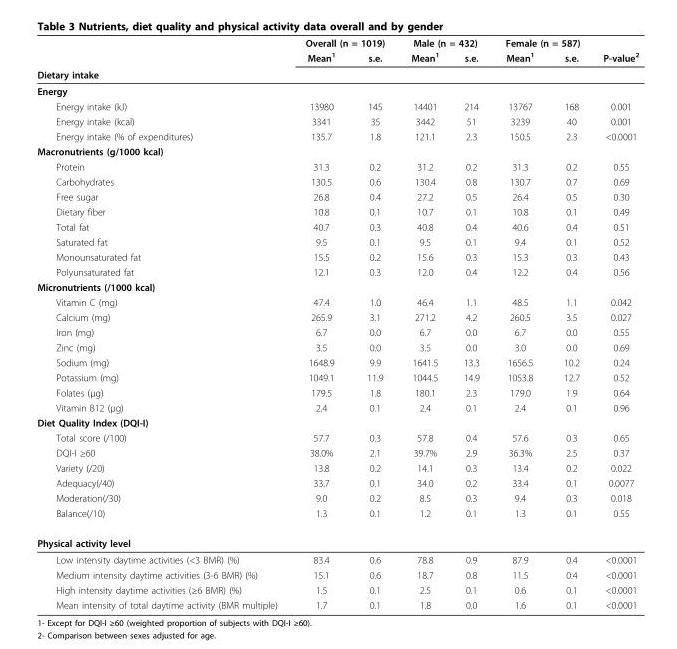table: (36, 36, 638, 610)
table column: (36, 36, 290, 610), (290, 36, 350, 610), (491, 36, 548, 610), (397, 36, 450, 610), (350, 36, 397, 610), (591, 36, 638, 610), (548, 36, 591, 610), (450, 36, 491, 610)
table column header: (36, 36, 638, 82)
table projected row header: (36, 527, 638, 551), (36, 82, 638, 98), (36, 143, 638, 158), (36, 279, 638, 294), (36, 414, 638, 429)
table row: (36, 527, 638, 551), (36, 505, 638, 527), (36, 65, 638, 82), (36, 49, 638, 65), (36, 82, 638, 98), (36, 203, 638, 219), (36, 444, 638, 460), (36, 551, 638, 567), (36, 98, 638, 113), (36, 113, 638, 128), (36, 128, 638, 143), (36, 143, 638, 158), (36, 158, 638, 173), (36, 173, 638, 188), (36, 188, 638, 203), (36, 219, 638, 234), (36, 234, 638, 249), (36, 249, 638, 264), (36, 264, 638, 279), (36, 279, 638, 294), (36, 294, 638, 309), (36, 309, 638, 324), (36, 324, 638, 339), (36, 339, 638, 354), (36, 354, 638, 369), (36, 369, 638, 384), (36, 384, 638, 399), (36, 399, 638, 414), (36, 414, 638, 429), (36, 429, 638, 444), (36, 460, 638, 475), (36, 475, 638, 490), (36, 490, 638, 505), (36, 567, 638, 582), (36, 582, 638, 597), (36, 36, 638, 49), (36, 597, 638, 610)
table spanning cell: (36, 36, 290, 82), (591, 36, 638, 82), (290, 49, 350, 82), (491, 49, 548, 82), (397, 49, 450, 82), (350, 49, 397, 82), (548, 49, 591, 82), (290, 36, 397, 49), (450, 49, 491, 82), (491, 36, 591, 49), (397, 36, 491, 49)
